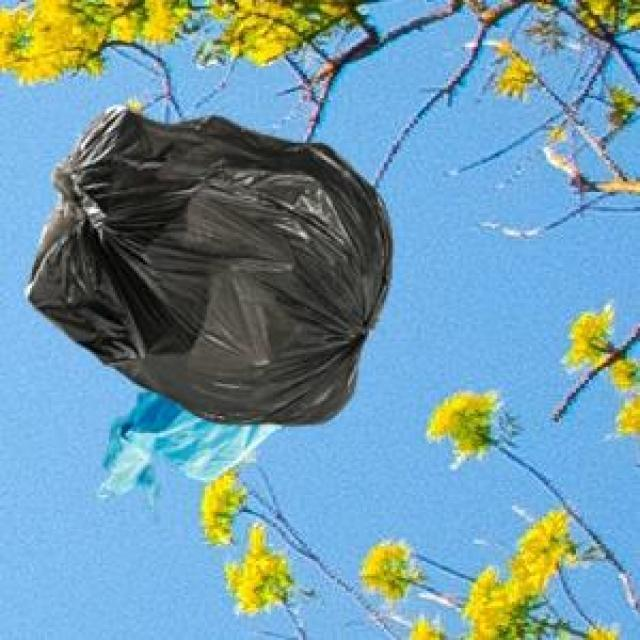miscellaneous trash: (21, 102, 388, 420)
